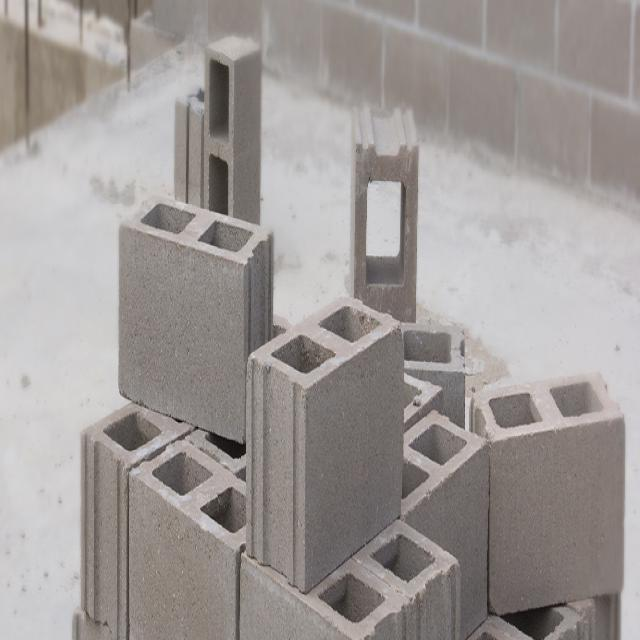Concrete: (76, 315, 620, 640), (246, 300, 412, 597), (474, 379, 626, 640), (117, 203, 275, 449)
